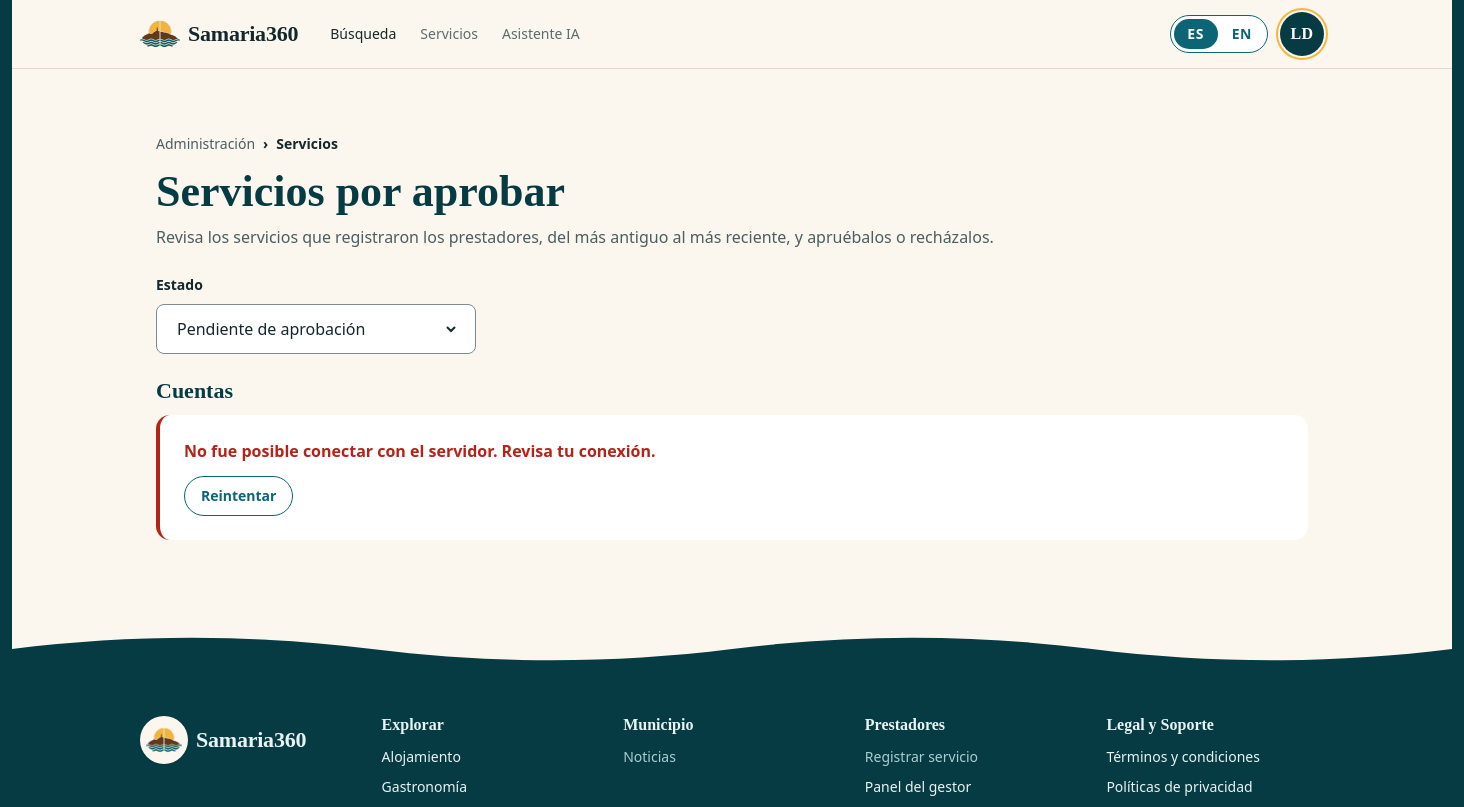
Cola de revisión (DEC-175) › un error de red muestra «Reintentar», que vuelve a pedir la cola
The width and height of the screenshot is (1464, 807).
Expected: the message shows "No fue posible conectar con el servidor. Revisa tu conexión.", [184,440,656,462]
Step 1. Click the button "Reintentar" → (239, 496), box [184,476,293,516]
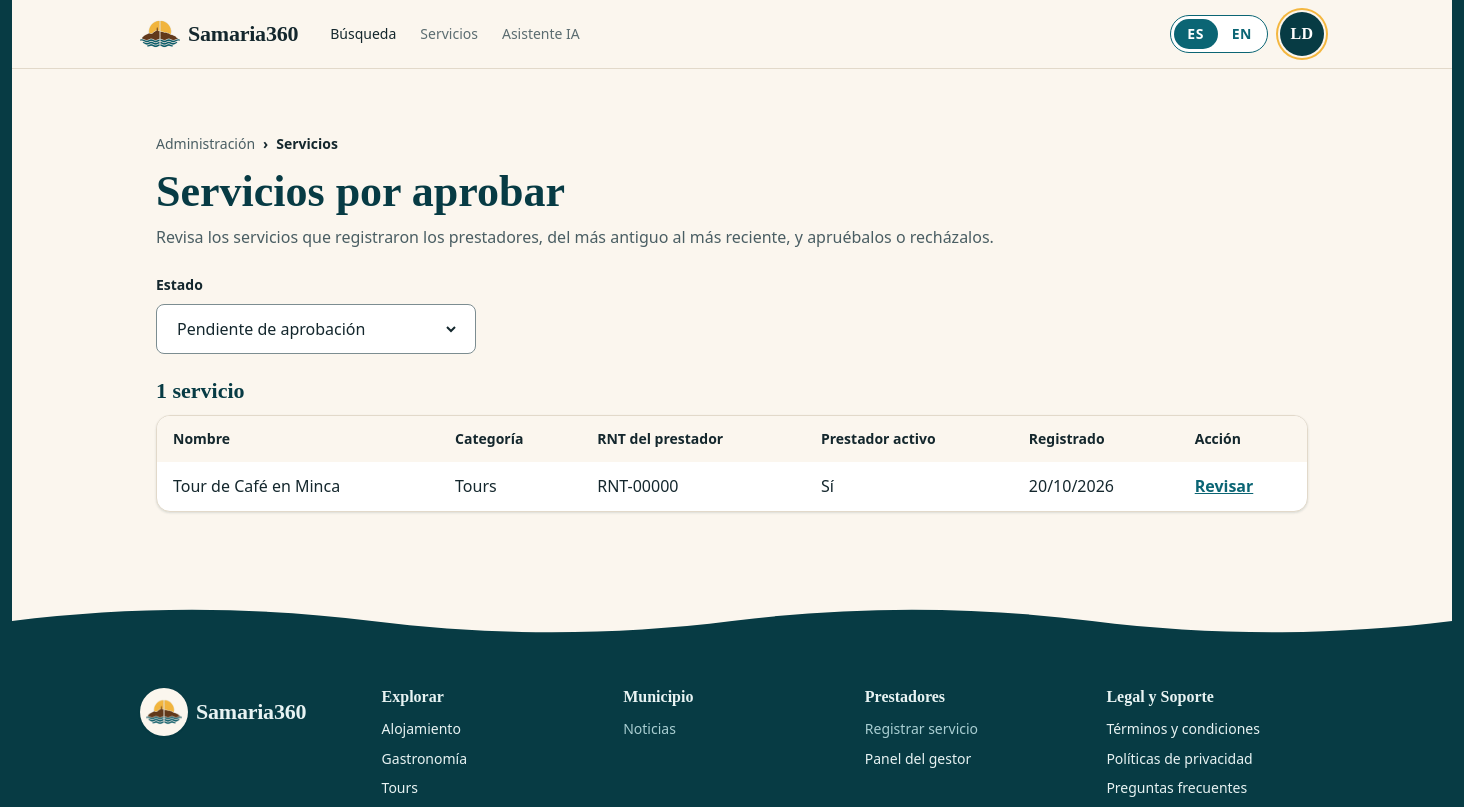
Now the table is shown, box [156,415,1308,512]
